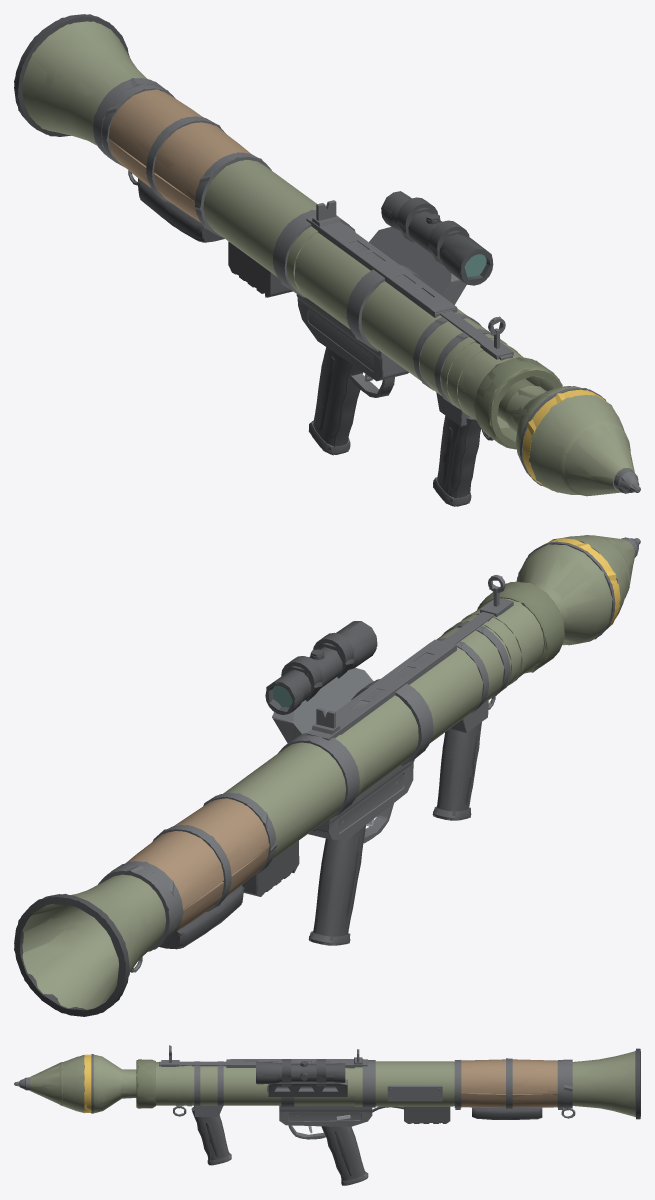
Rendered from rpg.glb.
3 renders of one model, top to bottom at view 1: azimuth 30°, elevation 25°; view 2: azimuth 150°, elevation 25°; view 3: azimuth 270°, elevation 25°, orthographic. The views are drawn at different scales.
Parts seen in each view (by area): view 1: body, lod, rocket; view 2: body, lod, rocket; view 3: body, lod, rocket.
Boxes of the visible parts, bbox=[...] form: body: bbox=[14, 14, 561, 506]; lod: bbox=[14, 14, 639, 506]; rocket: bbox=[505, 385, 640, 496]; body: bbox=[14, 575, 564, 1016]; lod: bbox=[14, 535, 640, 1016]; rocket: bbox=[516, 535, 640, 645]; body: bbox=[136, 1046, 640, 1185]; lod: bbox=[15, 1045, 640, 1185]; rocket: bbox=[14, 1054, 136, 1113].
Bounding box in the file's own units: 0.1563 × 0.283 × 1.16.
